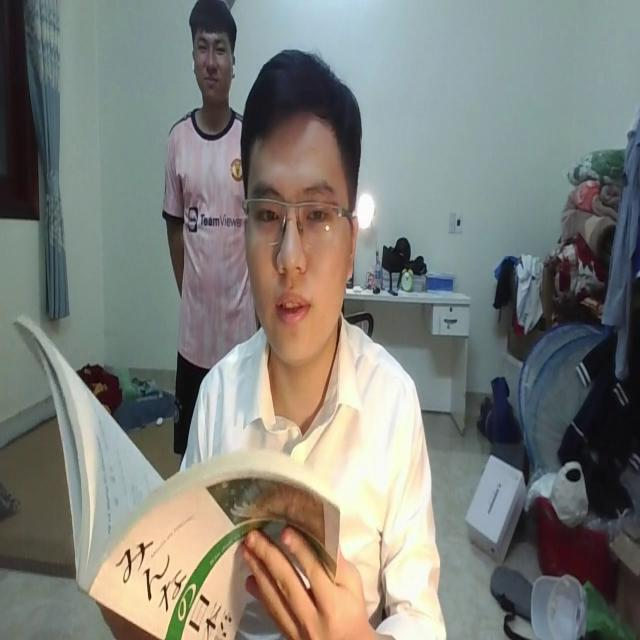book: (5, 303, 345, 640)
extra_person: (161, 1, 268, 438)
student: (177, 48, 443, 640)
